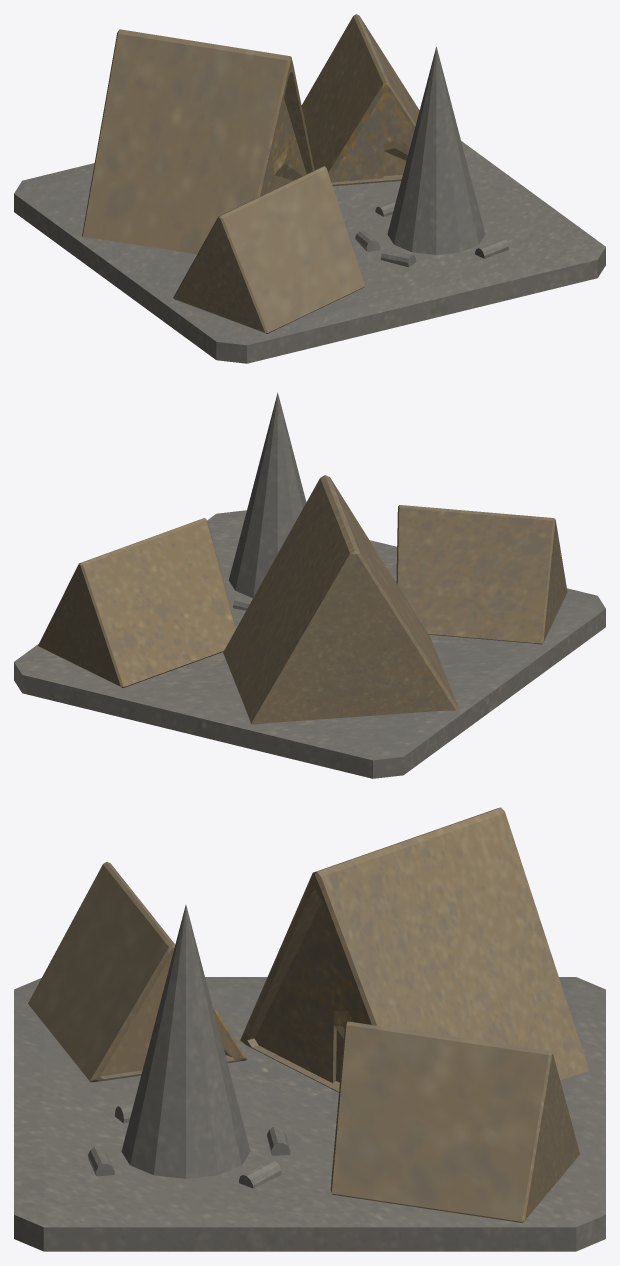
File: dinocamp.fbx
3 renders of one model, top to bottom at view 1: azimuth 30°, elevation 25°; view 2: azimuth 150°, elevation 25°; view 3: azimuth 270°, elevation 25°, orthographic. The views are drawn at different scales.
Parts seen in each view (by area): view 1: 0_camp; view 2: 0_camp; view 3: 0_camp.
Boxes of the visible parts, left/top/right/bottom form: 0_camp: left=14, top=14, right=605, bottom=363; 0_camp: left=14, top=392, right=605, bottom=778; 0_camp: left=14, top=807, right=605, bottom=1251.
Size of the model in its own units: 625 by 320 by 625.
